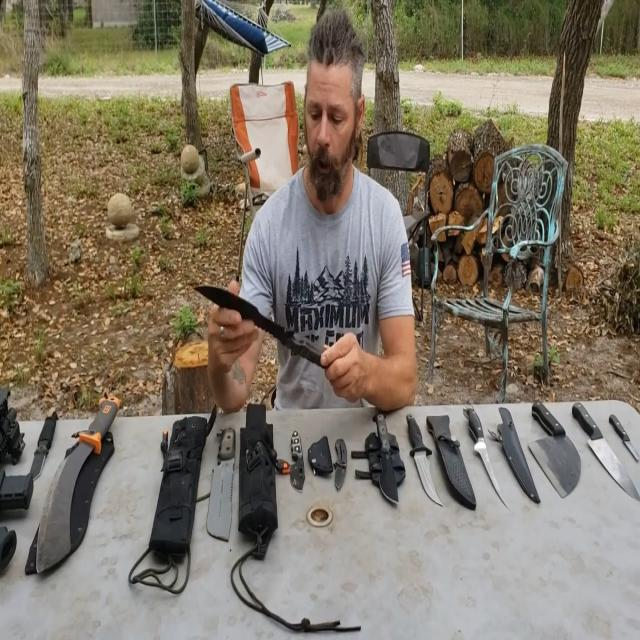knife: (41, 375, 131, 592), (189, 276, 357, 368), (518, 384, 596, 513), (566, 394, 640, 516), (199, 420, 249, 540), (454, 409, 512, 508), (401, 403, 451, 512), (364, 398, 406, 510), (282, 415, 322, 515), (29, 388, 65, 472), (321, 434, 355, 520), (607, 406, 639, 462)
